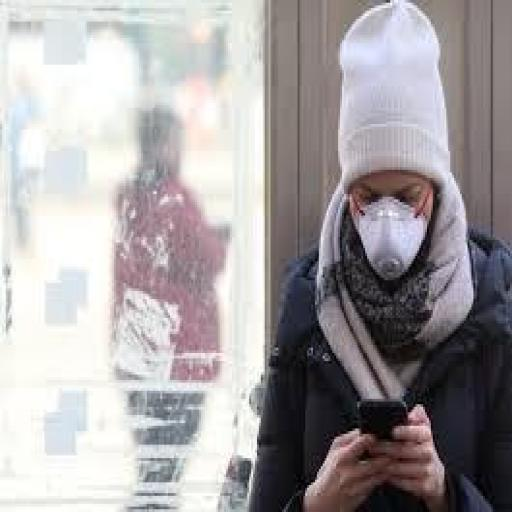mask: (320, 102, 447, 326)
